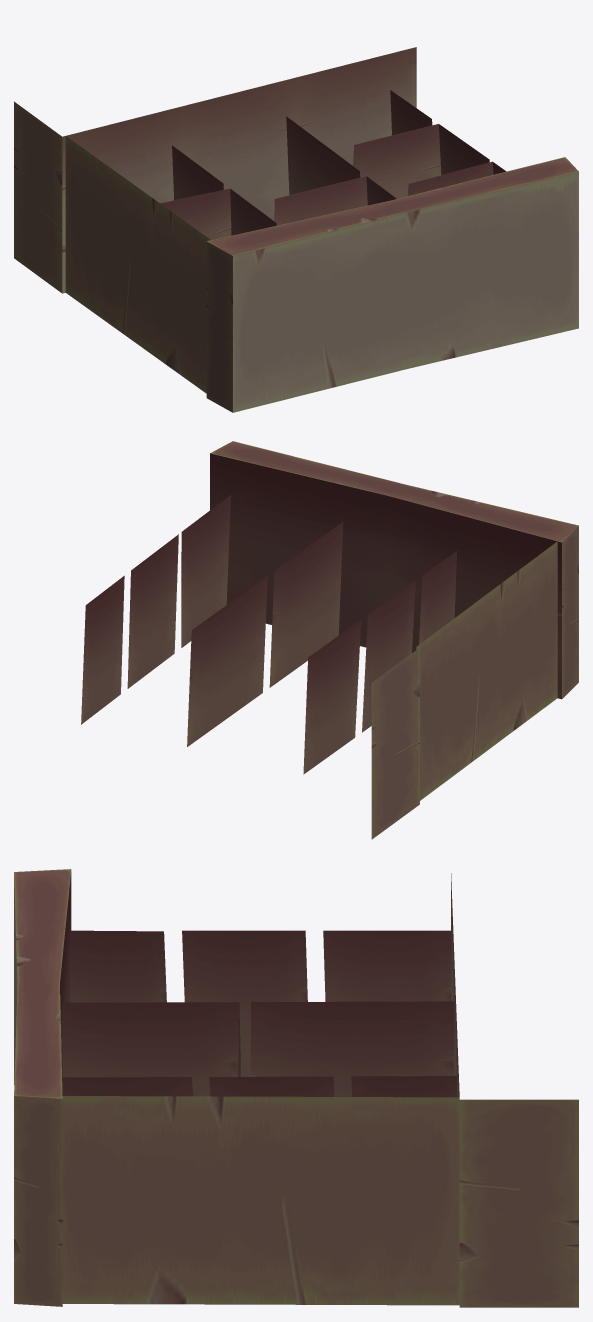
File: bookcase_01.glb
3 renders of one model, top to bottom at view 1: azimuth 30°, elevation 25°; view 2: azimuth 150°, elevation 25°; view 3: azimuth 270°, elevation 25°, orthographic. The views are drawn at different scales.
Visible parts, largest first — view 1: manor.bookcase_01-Mesh[1], manor.bookcase_01-Mesh[0]; view 2: manor.bookcase_01-Mesh[0], manor.bookcase_01-Mesh[1]; view 3: manor.bookcase_01-Mesh[1], manor.bookcase_01-Mesh[0].
Boxes of the visible parts, x1,y1,x2,y2 form: manor.bookcase_01-Mesh[1]: (14, 101, 578, 412); manor.bookcase_01-Mesh[0]: (62, 47, 506, 293); manor.bookcase_01-Mesh[0]: (81, 453, 561, 774); manor.bookcase_01-Mesh[1]: (210, 441, 578, 839); manor.bookcase_01-Mesh[1]: (14, 869, 578, 1307); manor.bookcase_01-Mesh[0]: (60, 871, 459, 1097).
Size of the model in its own units: 3.1 by 1.3 by 3.2.
2 materials, 2 textured.
